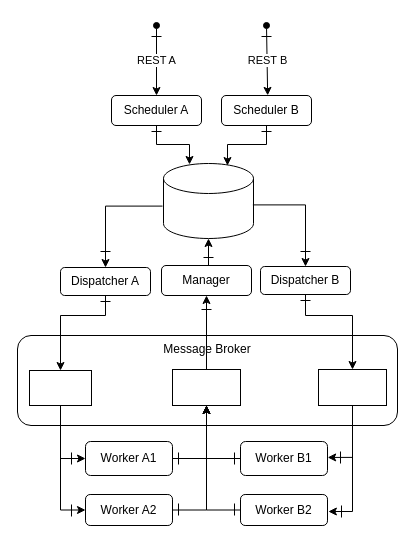
The diagram is 415 pixels wide and 543 high, and some of its shapes have lost their labels. Here are the shapes that lost their labels. From the top down, the centre of each, then its label:
At (x=208, y=200): "PostgreSQL".
At (x=60, y=388): "Queue A".
At (x=206, y=387): "Queue Work Res".
At (x=352, y=387): "Queue B".
